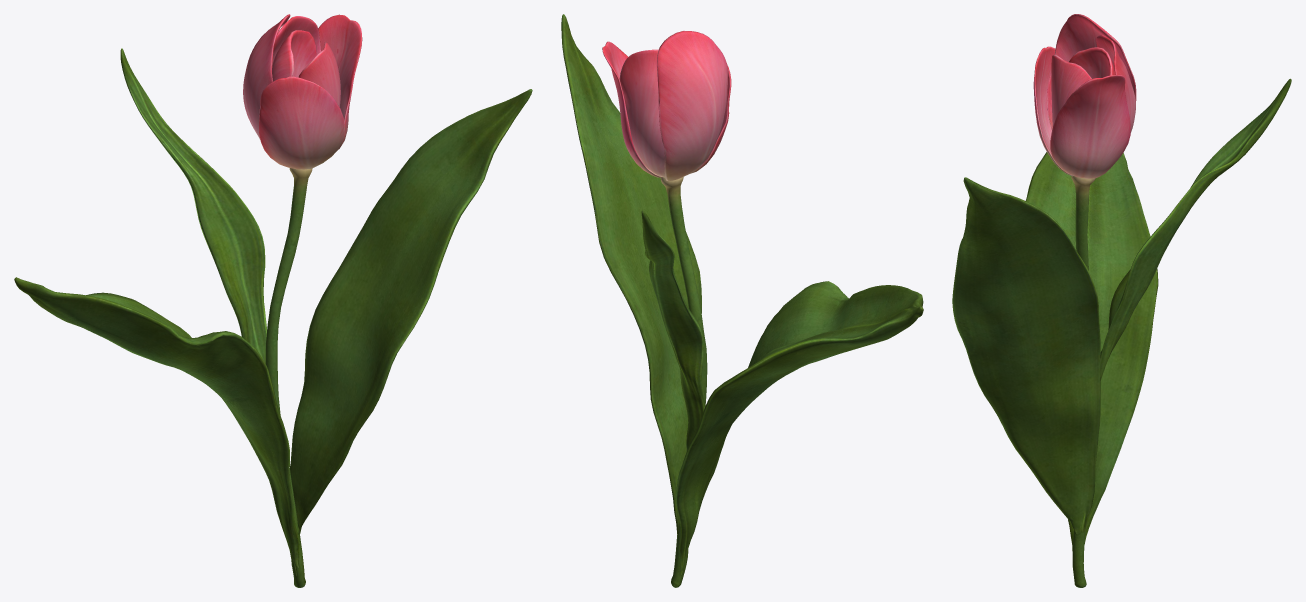
The model's file is tulip.glb.
3 views of the same model, side by side, from view 1: azimuth 30°, elevation 25°; view 2: azimuth 150°, elevation 25°; view 3: azimuth 270°, elevation 25° (orthographic). The views are drawn at different scales.
Parts seen in each view (by area): view 1: tulip.1; view 2: tulip.1; view 3: tulip.1.
Part boxes in pixels (x1,y1,x2,y2): tulip.1: [14, 14, 532, 587]; tulip.1: [561, 14, 923, 587]; tulip.1: [952, 14, 1291, 587].
Size of the model in its own units: 0.0298 by 0.0367 by 0.02.
Materials: 1 (1 with a texture image).
